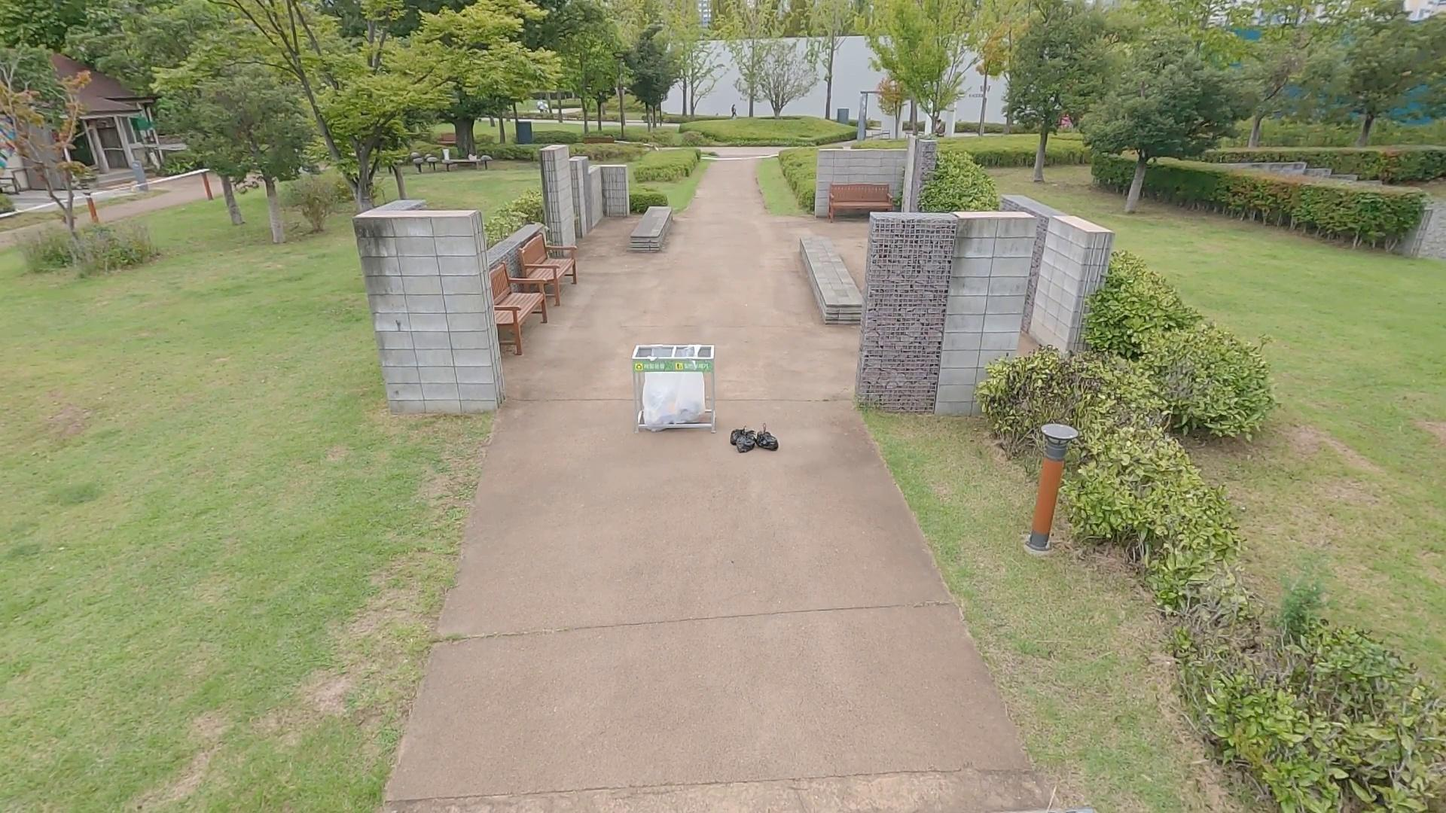trash: (732, 430, 756, 451), (730, 426, 752, 448), (757, 423, 774, 449), (756, 433, 780, 451)
